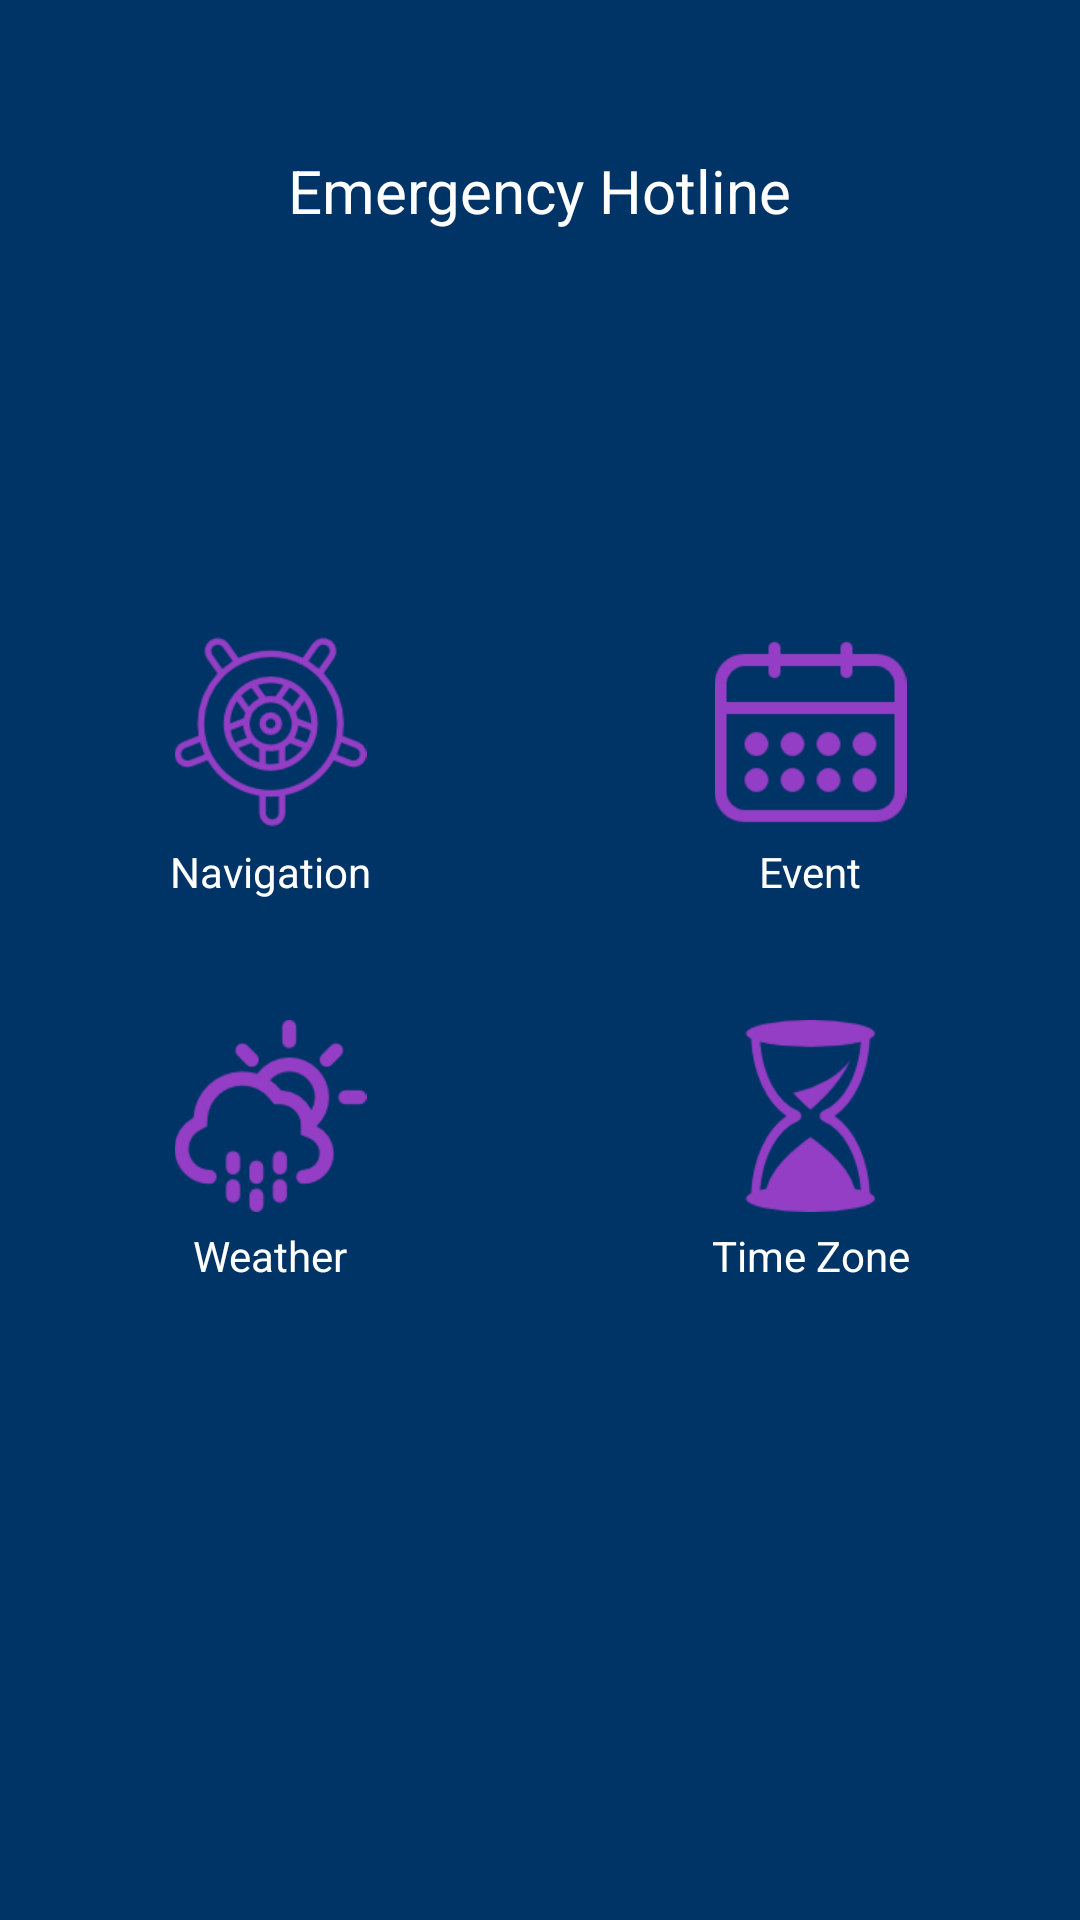

Locate icon controls on the screen. Image size 1080x1920, boxes as bbox(x1, y1, x2, y2).
calendar menu: bbox(715, 642, 907, 823)
path menu: bbox(175, 637, 367, 827)
